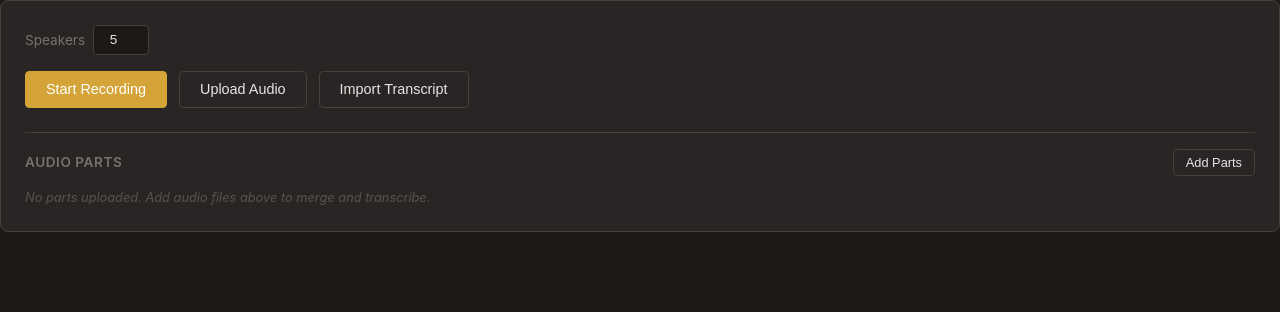
RecordingControls › shows error when start recording fails with NotAllowedError
Click the button "Start Recording": (96, 89) [25, 71, 167, 108]
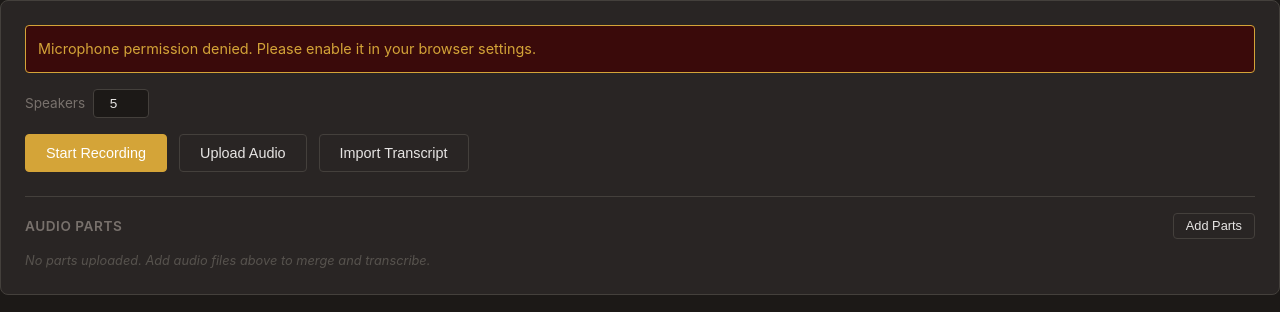
Now the text "Microphone permission denied" is shown, box [38, 40, 536, 57]
